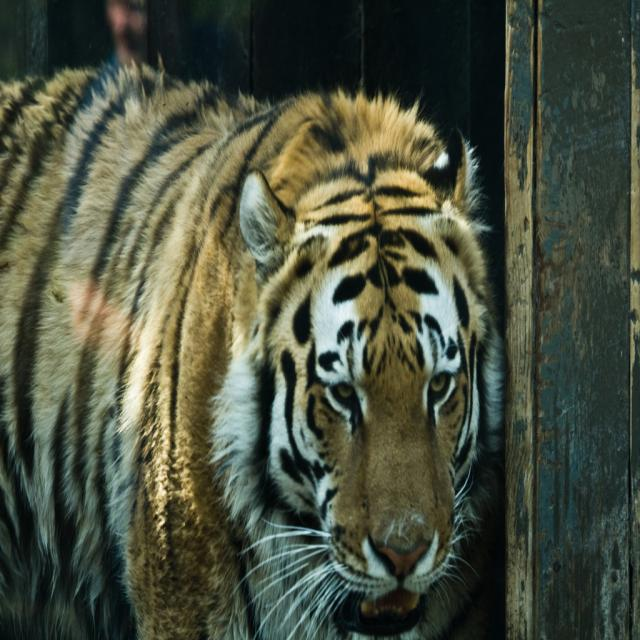Tiger: (0, 68, 501, 639)
